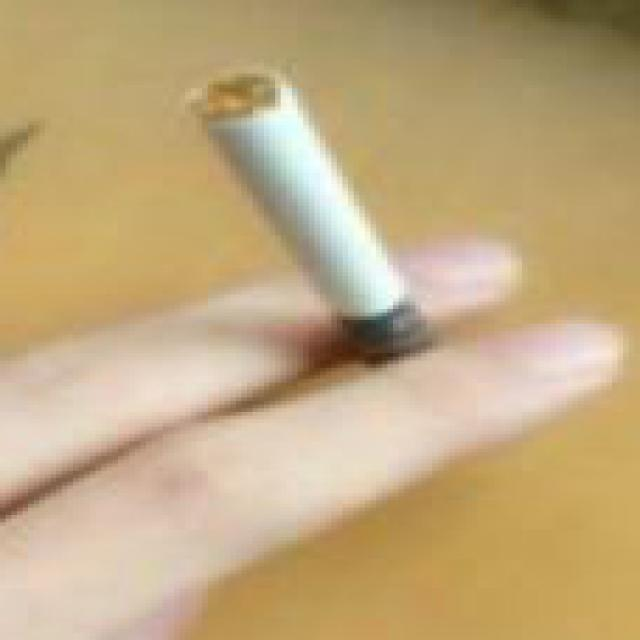smoking: (186, 68, 456, 371)
